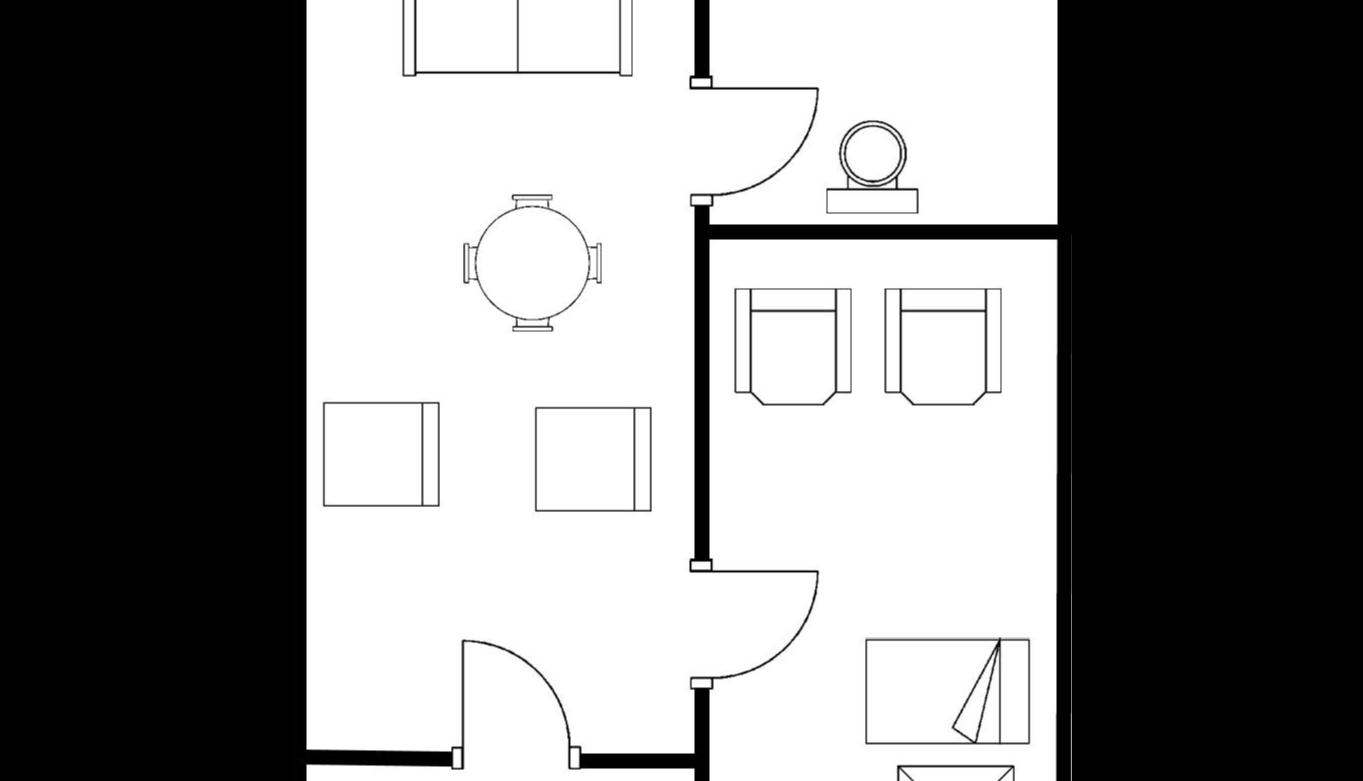bed: (856, 629, 1036, 752)
round_table: (452, 184, 609, 336)
sofa: (392, 0, 638, 81)
toilet: (822, 112, 922, 218)
